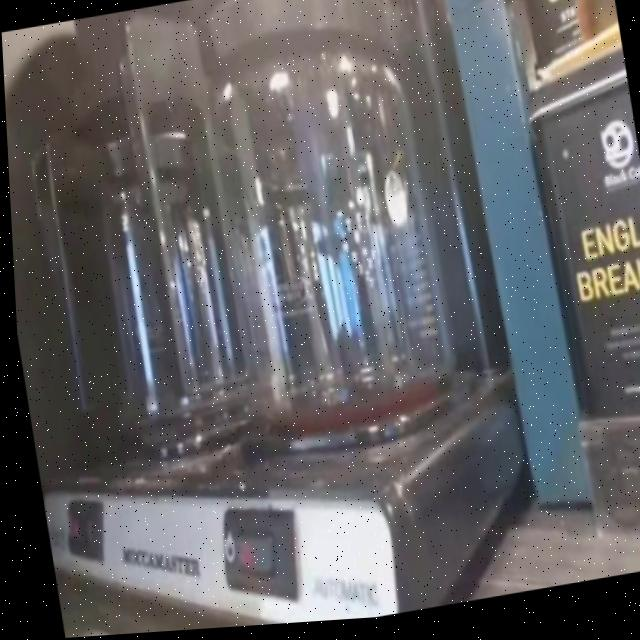nocoffee: (198, 62, 453, 444), (96, 185, 234, 446)
